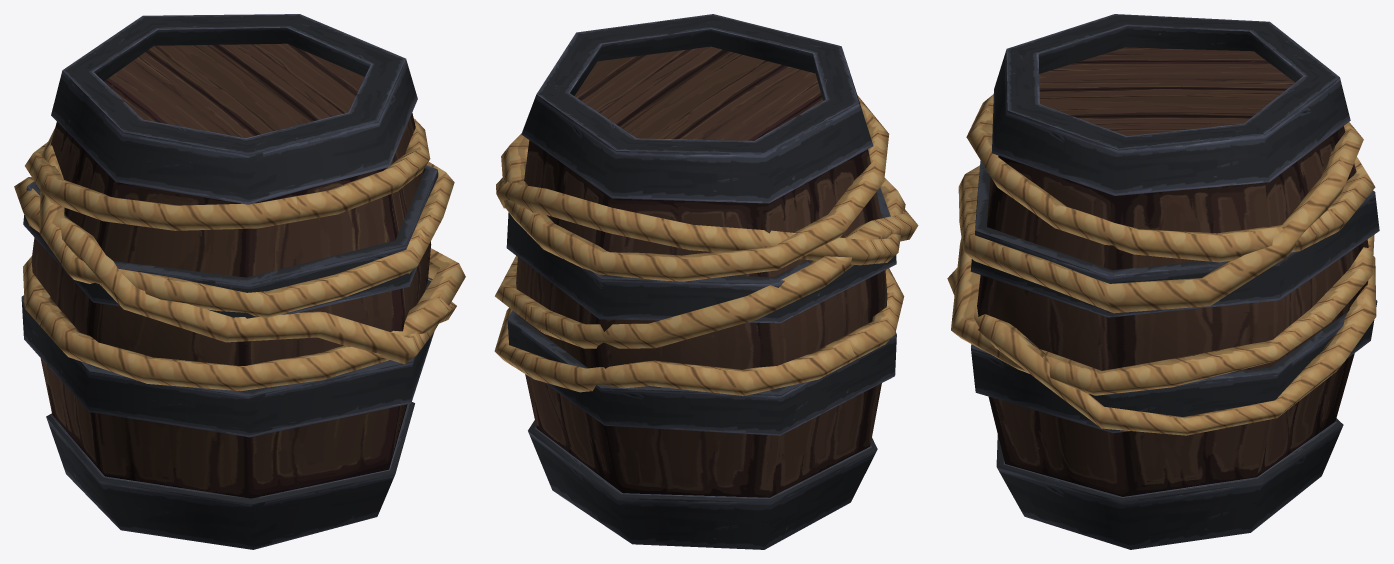
Rendered from SM_PROP_barrel_battle_01.fbx.
3 renders of one model, left to right at view 1: azimuth 30°, elevation 25°; view 2: azimuth 150°, elevation 25°; view 3: azimuth 270°, elevation 25°, orthographic.
Visible parts, largest first — view 1: SM_PROP_barrel_battle_01; view 2: SM_PROP_barrel_battle_01; view 3: SM_PROP_barrel_battle_01.
Boxes of the visible parts, left/top/right/bottom form: SM_PROP_barrel_battle_01: left=14, top=14, right=465, bottom=549; SM_PROP_barrel_battle_01: left=494, top=14, right=918, bottom=549; SM_PROP_barrel_battle_01: left=947, top=14, right=1379, bottom=549.
Size of the model in its own units: 83.43 by 84.65 by 82.13.
